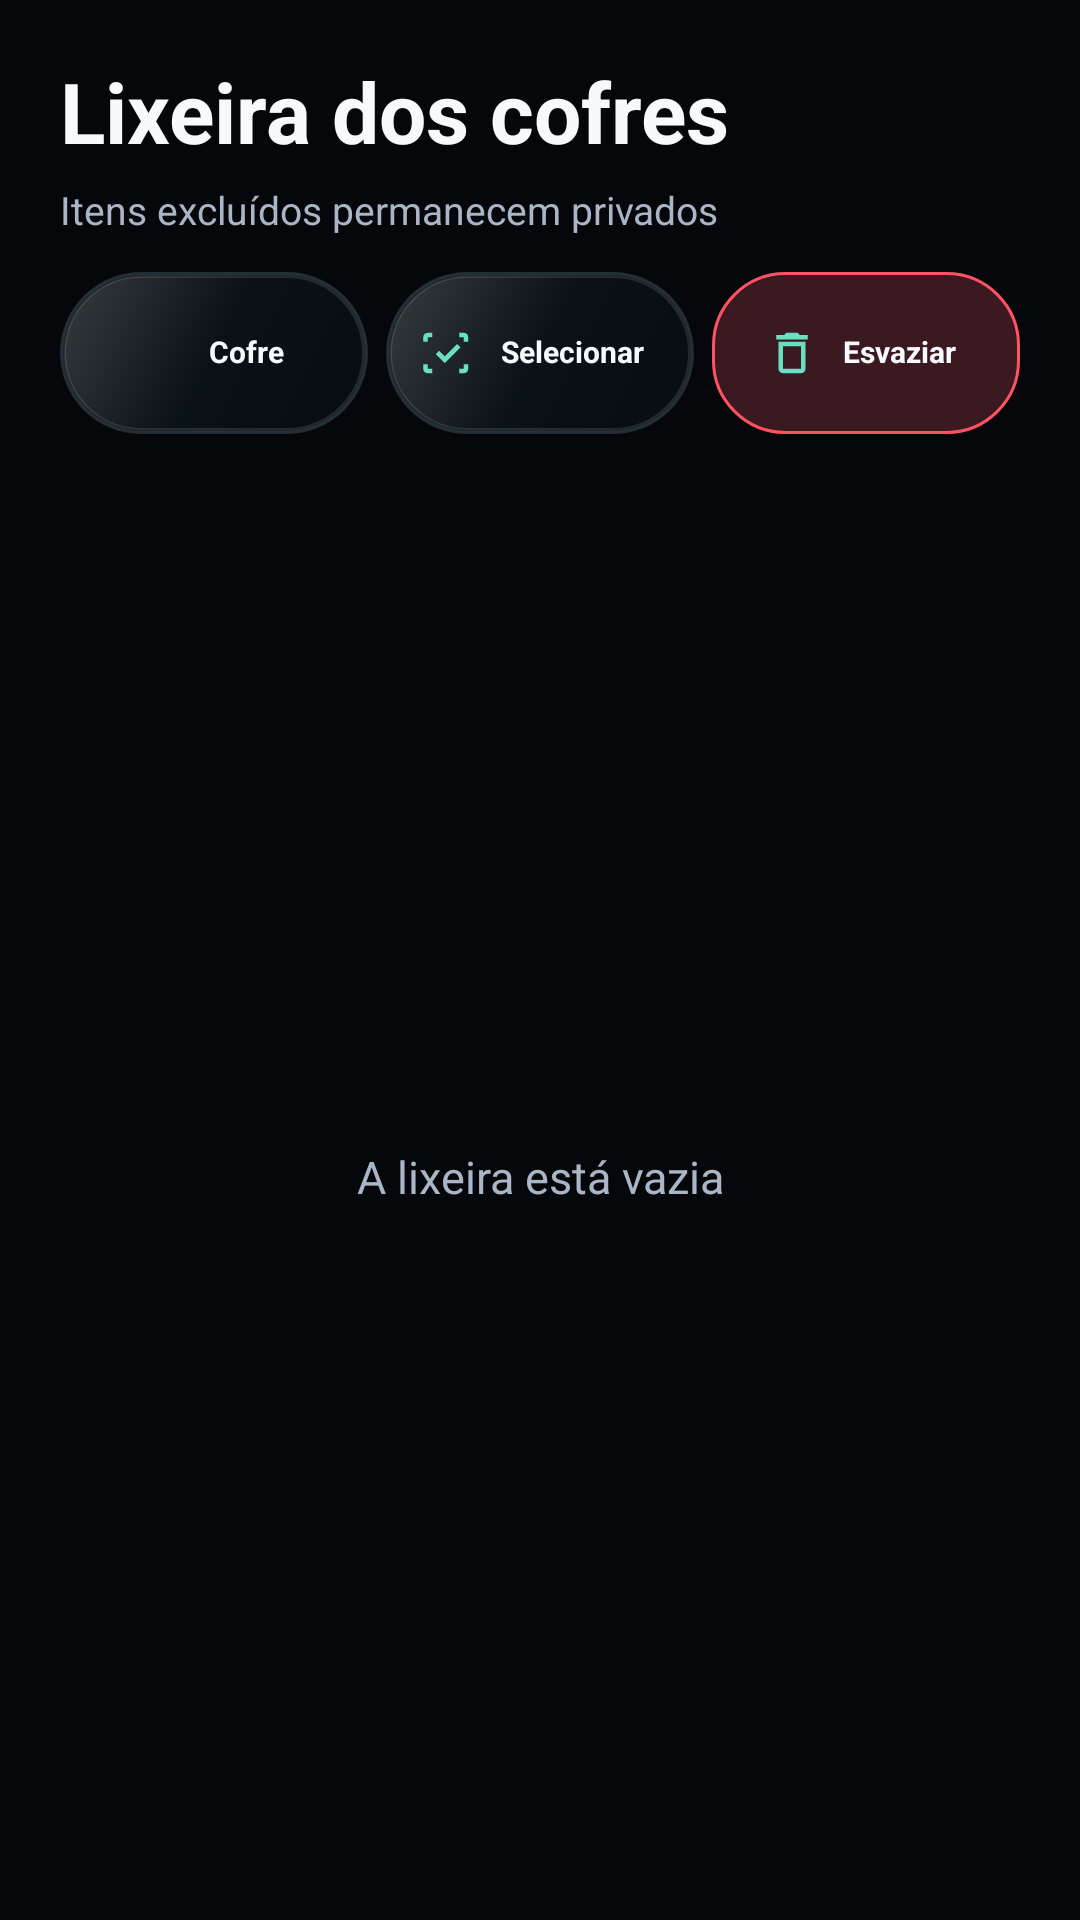

Named icons in this screenshot (1080*1920) and their bounding boxes, (x1, y1, x2, y2):
select all: (423, 332, 469, 374)
trash: (776, 332, 808, 374)
